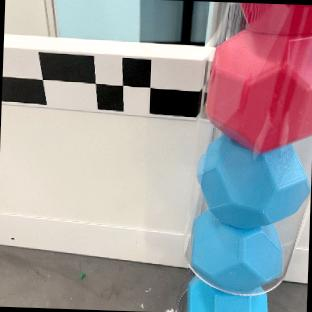Loader: (183, 2, 312, 312)
V5_BLUE: (198, 135, 311, 225), (190, 210, 282, 293), (187, 276, 267, 312)
V5_RED: (206, 3, 312, 152)
